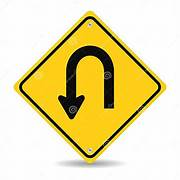back: (13, 9, 168, 164)
